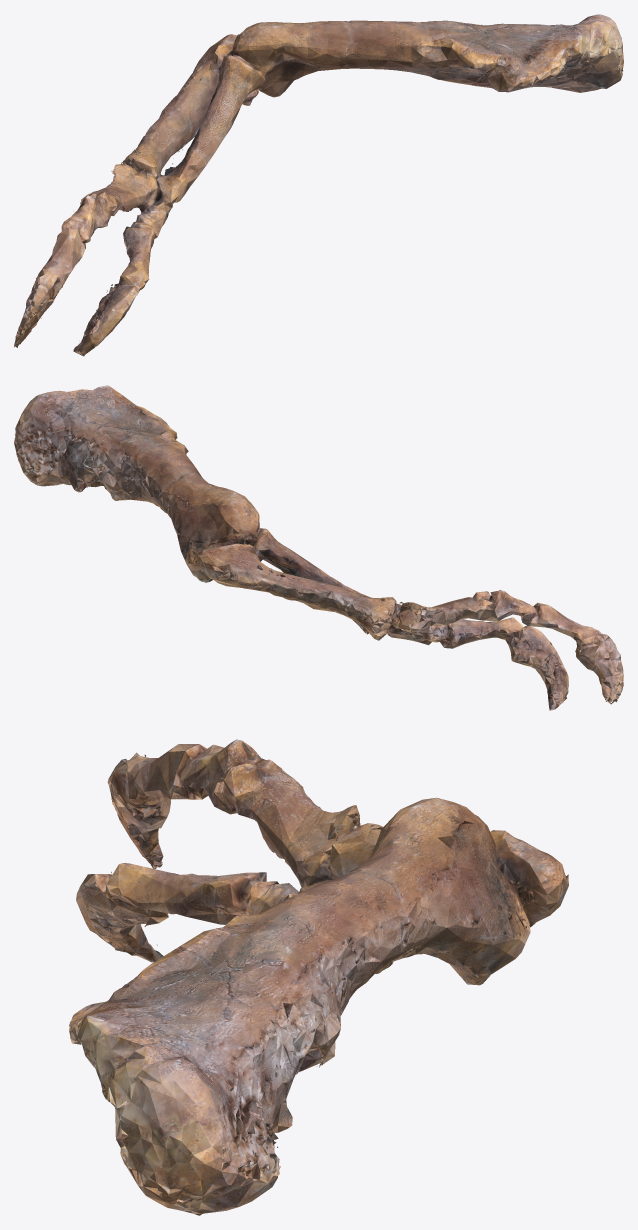
File: _trex_forelimb.gltf
The picture shows the model from 3 angles, top to bottom: view 1: azimuth 30°, elevation 25°; view 2: azimuth 150°, elevation 25°; view 3: azimuth 270°, elevation 25°; orthographic projection. The views are drawn at different scales.
Parts seen in each view (by area): view 1: trexForelimb_12000; view 2: trexForelimb_12000; view 3: trexForelimb_12000.
Boxes of the visible parts, <box> form: trexForelimb_12000: <box>14,14,623,356</box>; trexForelimb_12000: <box>14,385,623,710</box>; trexForelimb_12000: <box>69,739,568,1215</box>.
Size of the model in its own units: 0.6261 by 0.2046 by 0.2301.
1 material, 1 textured.
